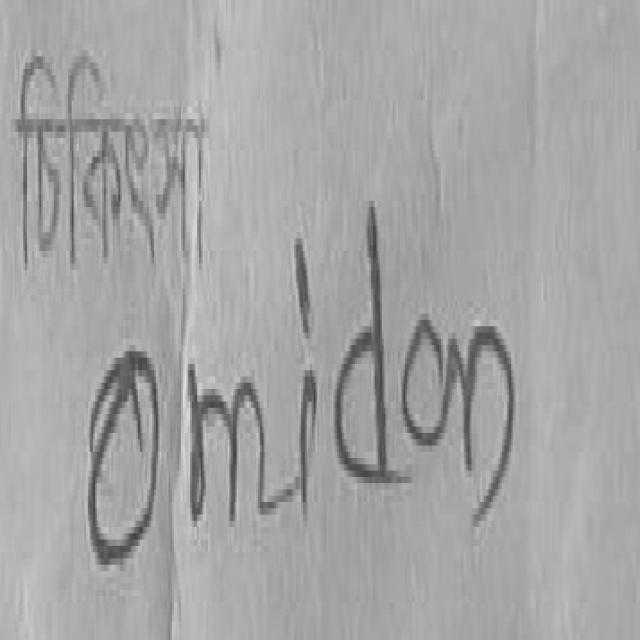O: (90, 358, 158, 565)
d: (335, 201, 394, 480)
i: (285, 370, 317, 544), (296, 238, 308, 336)
m: (188, 367, 292, 521)
n: (447, 326, 515, 524)
o: (405, 320, 449, 445)
